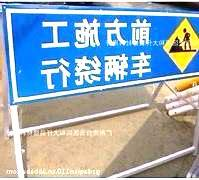sign: (6, 4, 198, 84)
